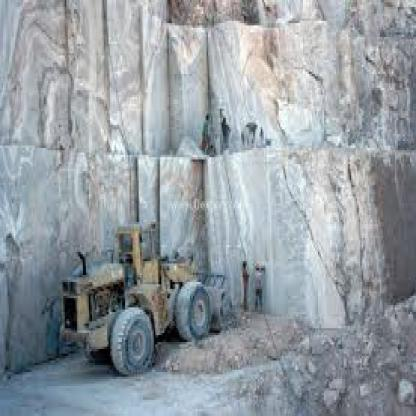Metamorphic_Marble: (0, 2, 68, 144), (273, 26, 345, 138), (164, 23, 210, 155), (72, 0, 108, 146), (158, 160, 204, 247), (115, 2, 143, 144)
